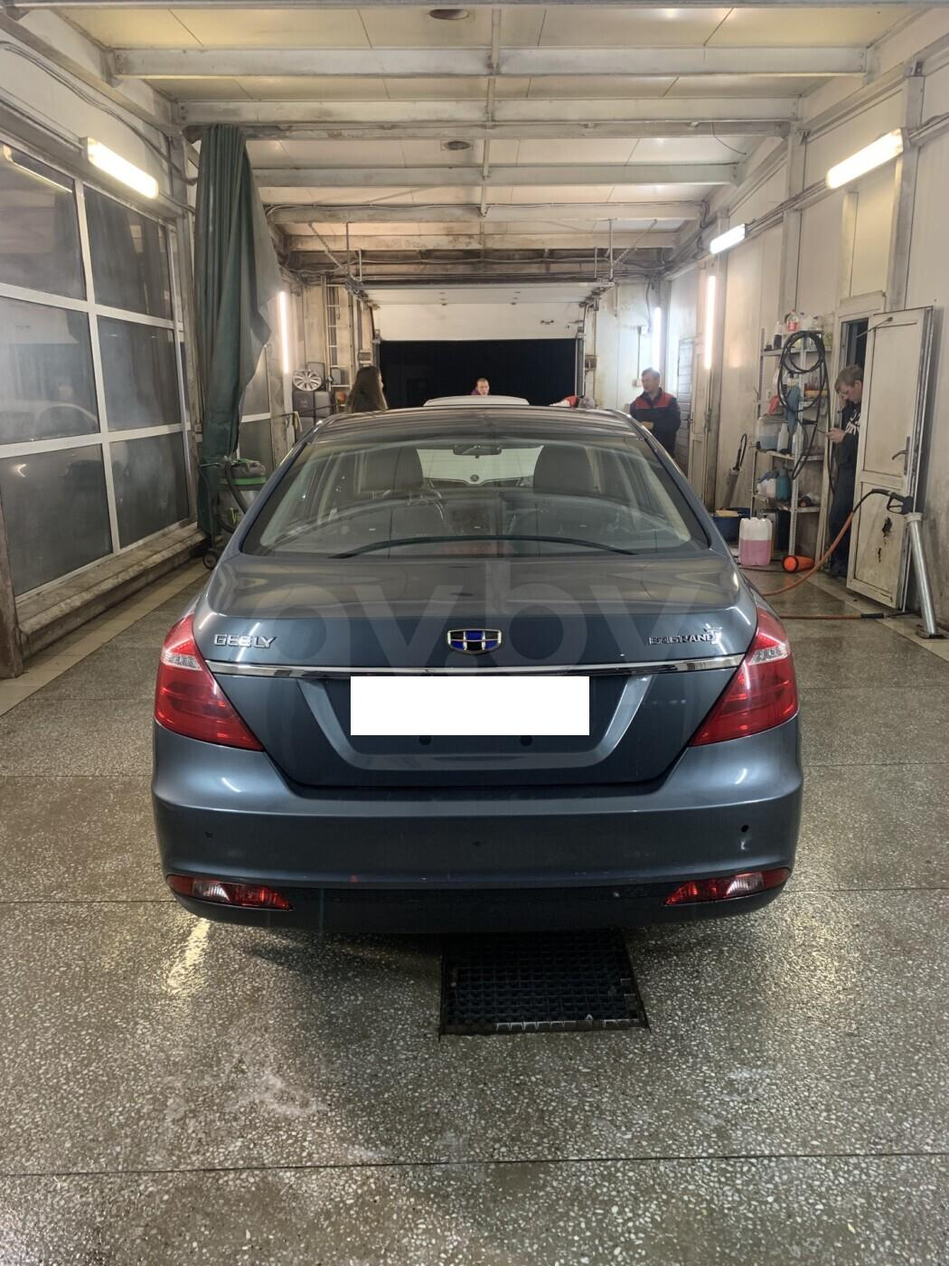Emgrand_2019-2021: (154, 405, 802, 931)
